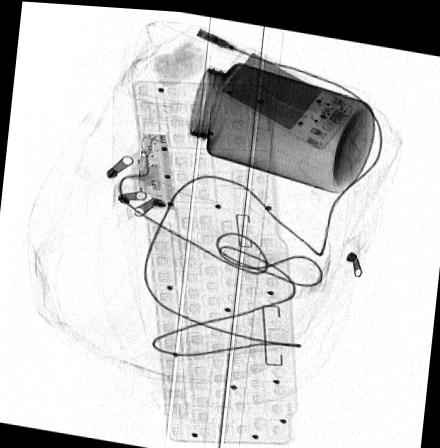Powerbank: (214, 41, 356, 145)
